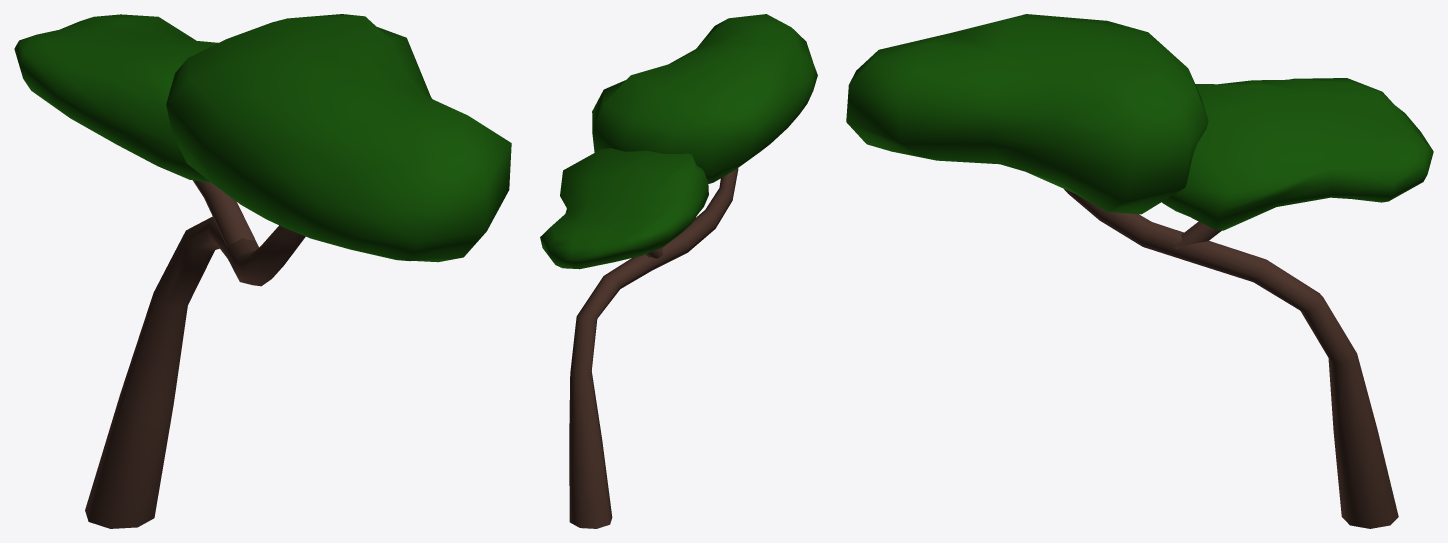
The model's file is Tree.dae.
3 renders of one model, left to right at view 1: azimuth 30°, elevation 25°; view 2: azimuth 150°, elevation 25°; view 3: azimuth 270°, elevation 25°, orthographic. The views are drawn at different scales.
Visible parts, largest first — view 1: pCube1, pCylinder1, pCube2, pCylinder2; view 2: pCube1, pCube2, pCylinder1; view 3: pCube1, pCube2, pCylinder1.
Part boxes in pixels (box(x1,y1,x2,y2)): pCube1: box(166, 14, 511, 262); pCylinder1: box(85, 216, 305, 528); pCube2: box(14, 14, 218, 182); pCylinder2: box(193, 180, 258, 247); pCube1: box(592, 14, 817, 183); pCube2: box(540, 148, 708, 269); pCylinder1: box(569, 168, 738, 528); pCube1: box(846, 14, 1208, 214); pCube2: box(1162, 78, 1433, 230); pCylinder1: box(1064, 189, 1398, 528).
Size of the model in its own units: 9.8 by 21.74 by 23.8.
